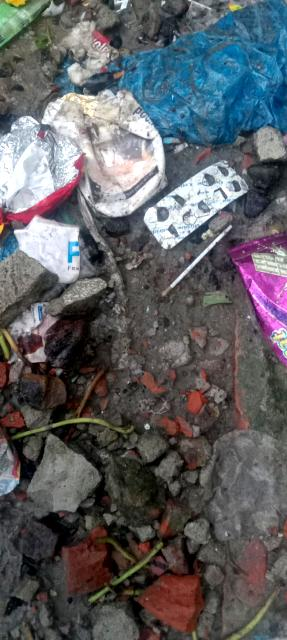medicine: (133, 147, 255, 258)
